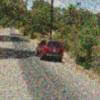cars: (36, 39, 64, 63)
